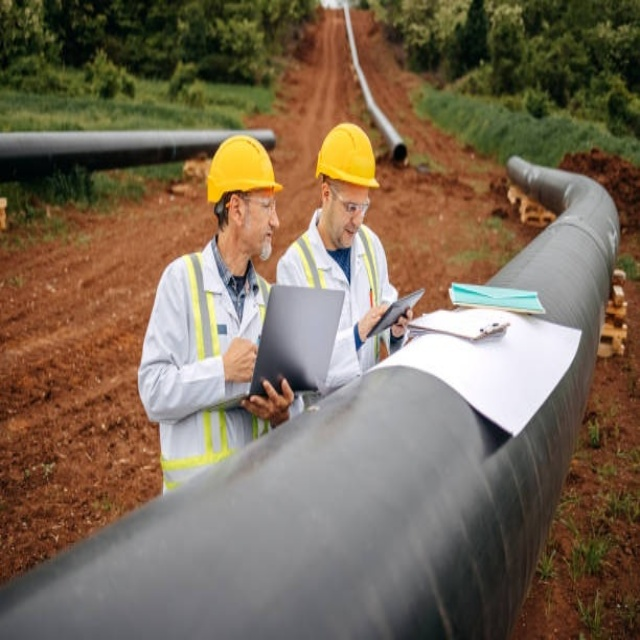Gafas: (328, 186, 371, 218), (240, 194, 277, 213)
Sin_guantes: (239, 373, 295, 417), (220, 331, 258, 380), (357, 298, 390, 340), (390, 304, 416, 339)
Sin_mascara: (254, 227, 276, 256), (337, 226, 358, 248)
